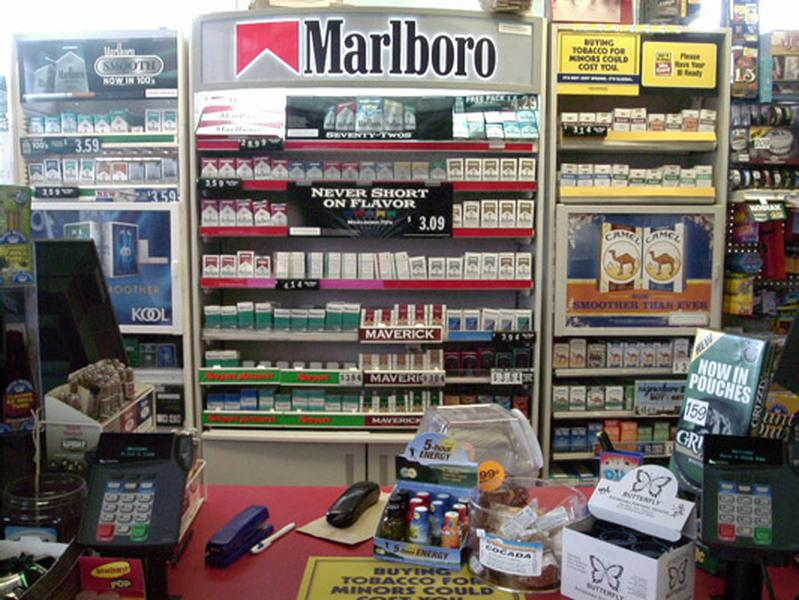marlboro_mentol: (358, 99, 383, 132), (108, 111, 130, 134), (163, 109, 178, 136), (303, 161, 320, 182), (146, 109, 161, 132), (26, 164, 43, 184), (61, 112, 76, 134), (93, 116, 111, 134), (78, 116, 96, 134), (80, 161, 95, 182), (30, 116, 45, 136), (63, 161, 78, 181), (45, 161, 58, 182), (503, 121, 518, 139), (361, 162, 373, 181), (45, 117, 58, 134), (288, 162, 301, 179), (433, 164, 445, 182), (523, 121, 536, 137), (378, 162, 391, 177)
marlboro_red: (336, 102, 355, 131), (200, 201, 218, 227), (216, 204, 233, 226), (271, 202, 288, 224), (240, 252, 255, 276), (238, 201, 253, 224), (236, 159, 255, 177), (256, 256, 270, 279), (341, 164, 358, 182), (201, 159, 216, 179), (323, 162, 338, 182), (203, 257, 218, 277), (255, 157, 270, 176), (221, 257, 236, 276), (255, 201, 268, 222), (220, 157, 233, 177), (273, 162, 285, 179)
